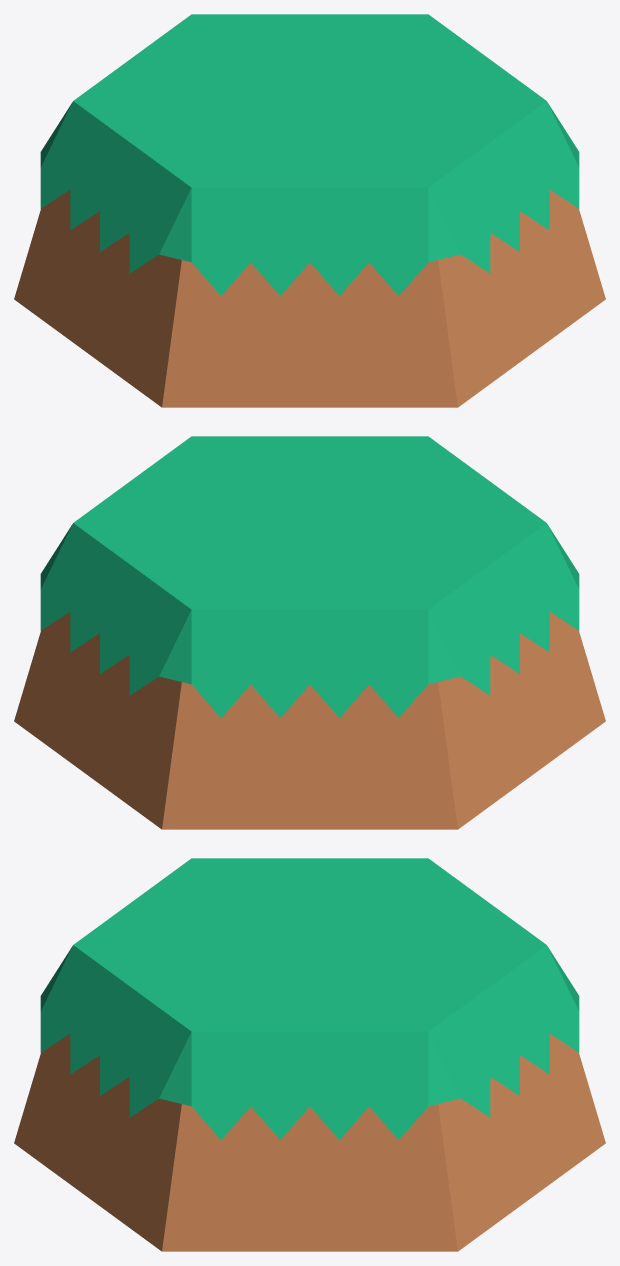
Rendered from blockHexagonLow.fbx.
The picture shows the model from 3 angles, top to bottom: view 1: azimuth 30°, elevation 25°; view 2: azimuth 150°, elevation 25°; view 3: azimuth 270°, elevation 25°; orthographic projection.
Parts seen in each view (by area): view 1: blockHexagonLow; view 2: blockHexagonLow; view 3: blockHexagonLow.
Part boxes in pixels (x1,y1,x2,y2): blockHexagonLow: [14, 14, 605, 407]; blockHexagonLow: [14, 436, 605, 829]; blockHexagonLow: [14, 858, 605, 1251].
Bounding box in the file's own units: 10.13 × 4.27 × 11.55.
